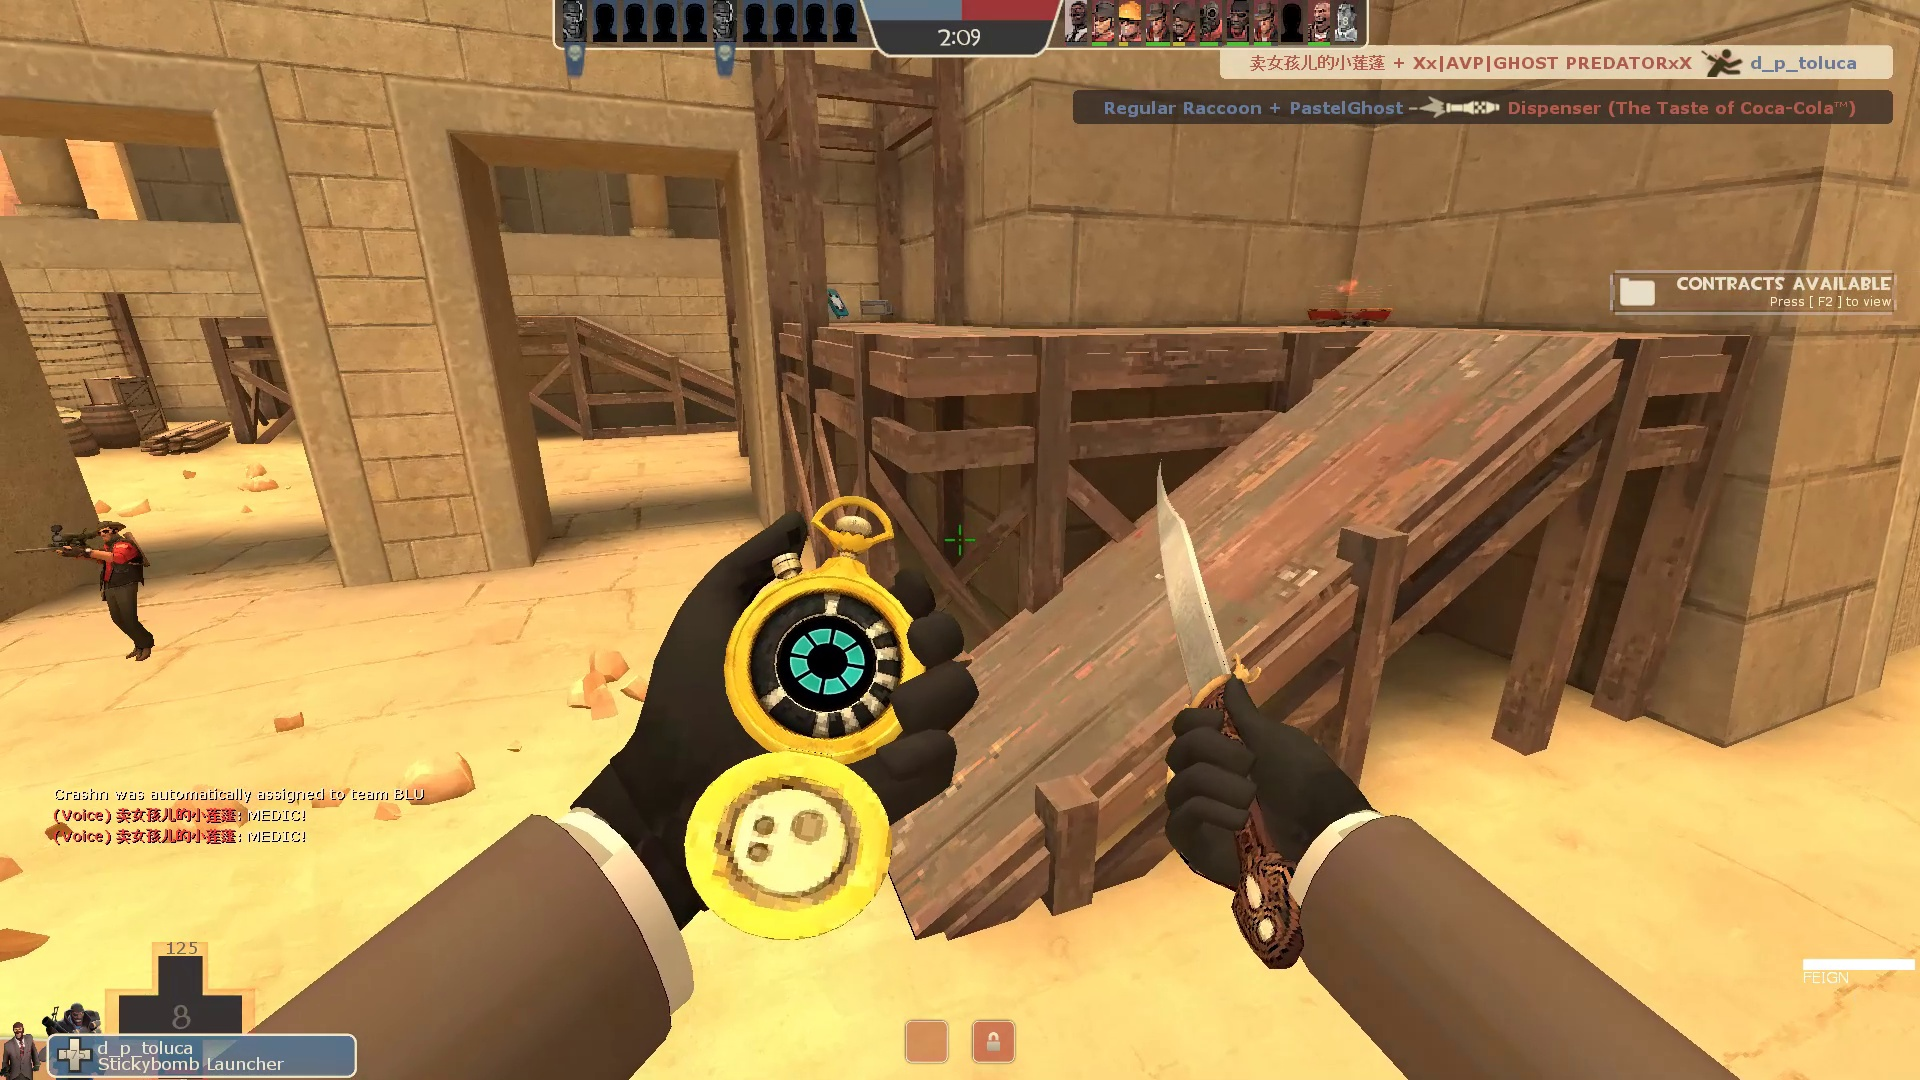red_sniper: (12, 516, 171, 669)
red_teleporter_exit: (1302, 268, 1403, 334)
